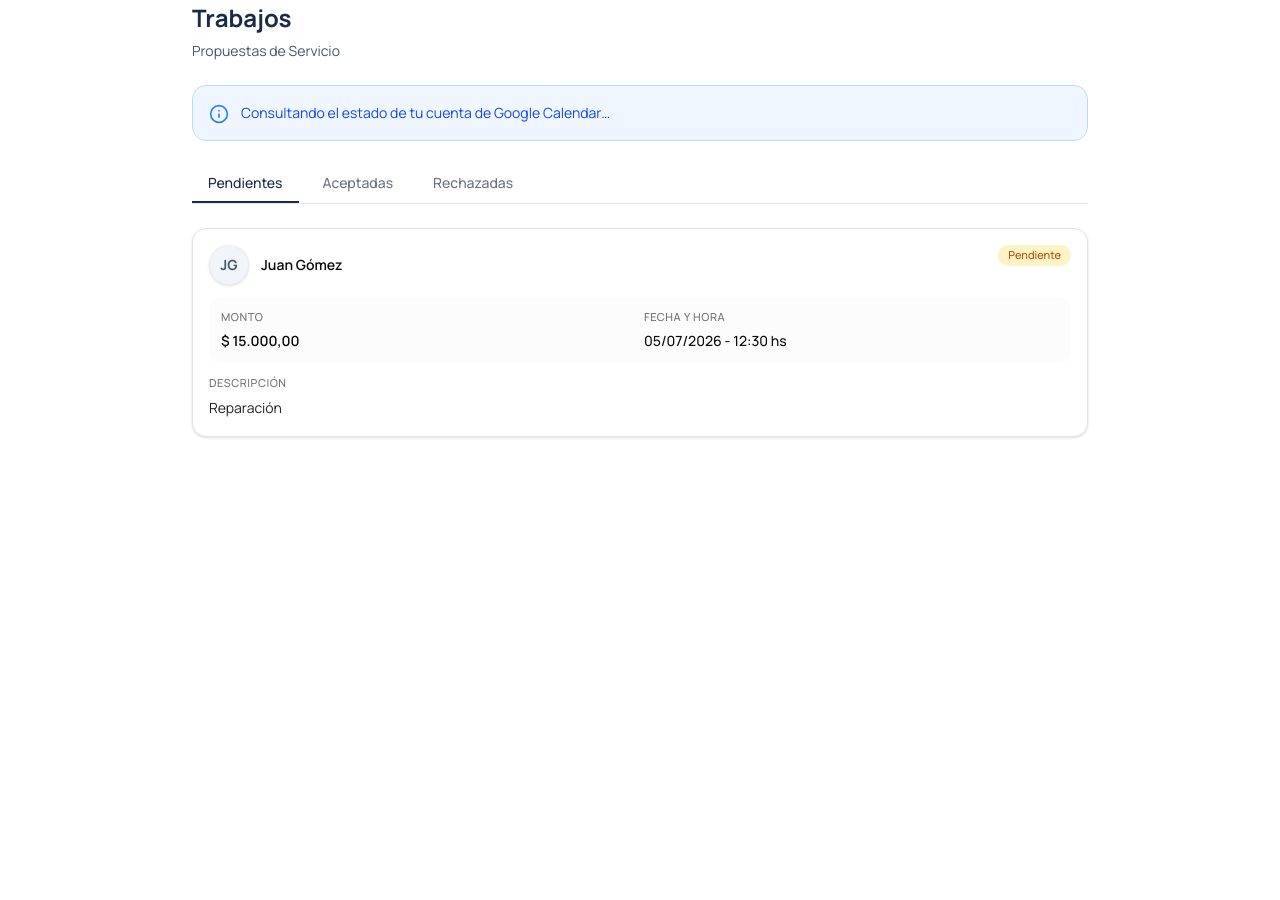
it: ProposalHistoryView › opens proposal detail modal when clicking a proposal card
Click the button with test id "proposal-card" at (640, 332), box [192,228,1088,437]
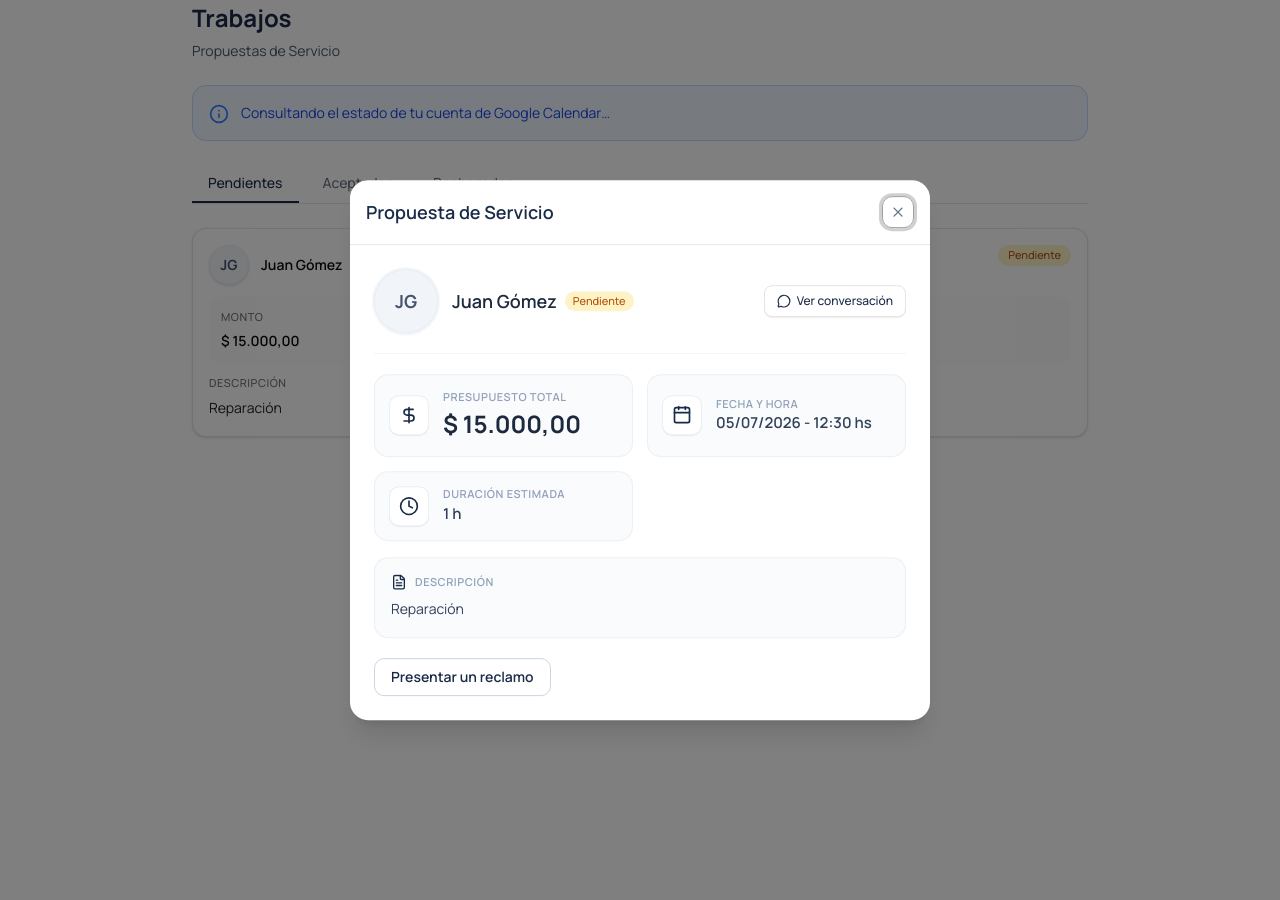
Now the element with test id "service-proposal-detail-modal" is shown, box [350,245,930,720]
Now the button "Ver conversación" is shown, box [764,285,906,317]
